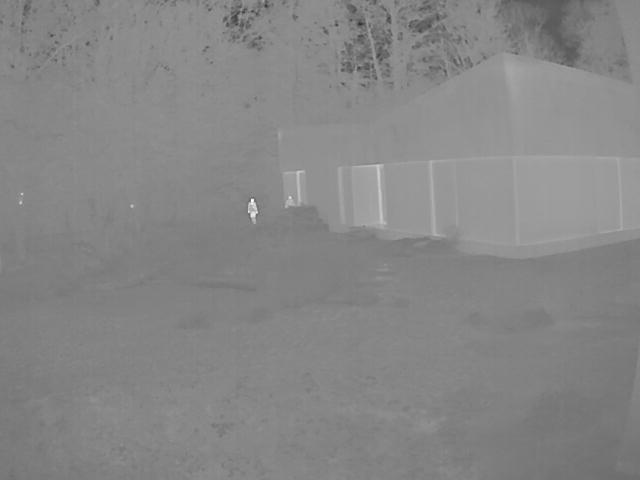person: (249, 198, 261, 223), (284, 195, 296, 208)
